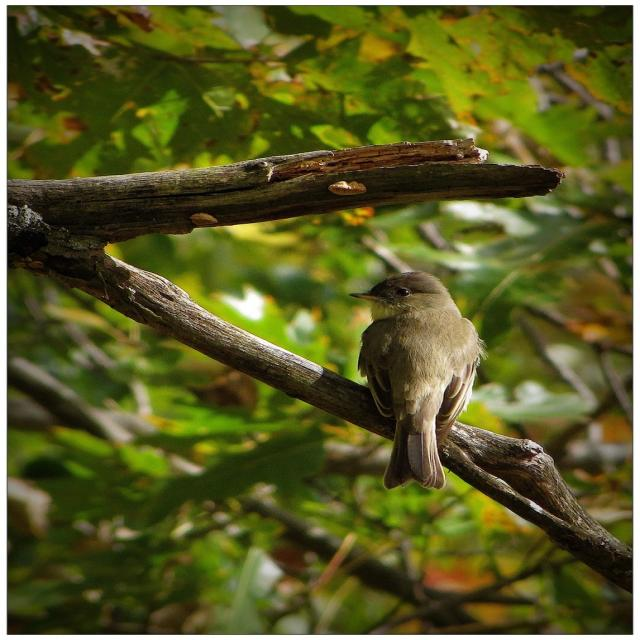bird: (348, 277, 496, 505)
